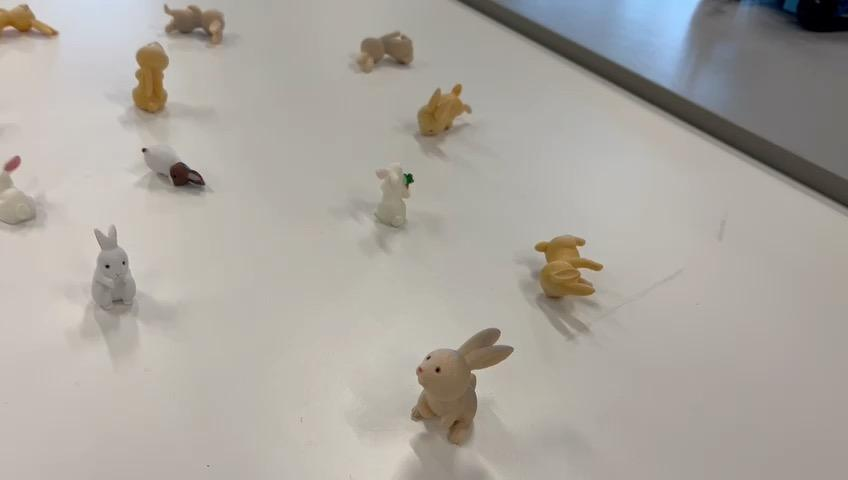pet: (403, 318, 517, 459), (521, 224, 606, 306), (82, 222, 149, 320), (124, 135, 215, 194), (122, 37, 175, 118), (369, 161, 428, 227), (155, 0, 233, 47), (413, 74, 466, 141), (0, 144, 39, 231), (352, 24, 418, 73), (0, 0, 65, 41)
